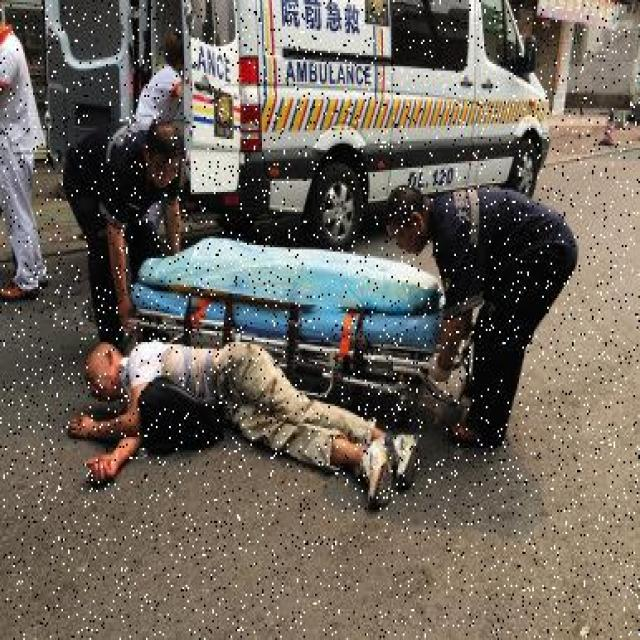fall: (60, 336, 416, 504)
